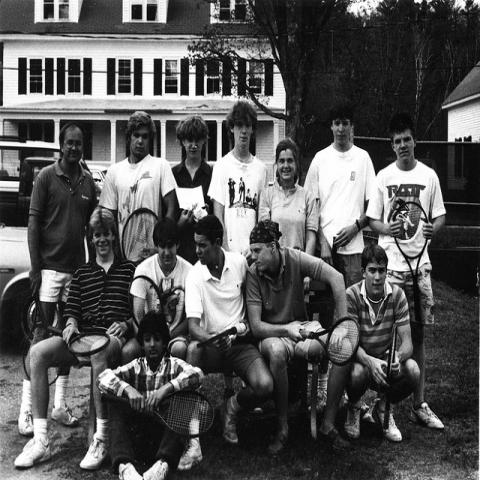car: (0, 156, 59, 227)
truck: (0, 180, 34, 355)
